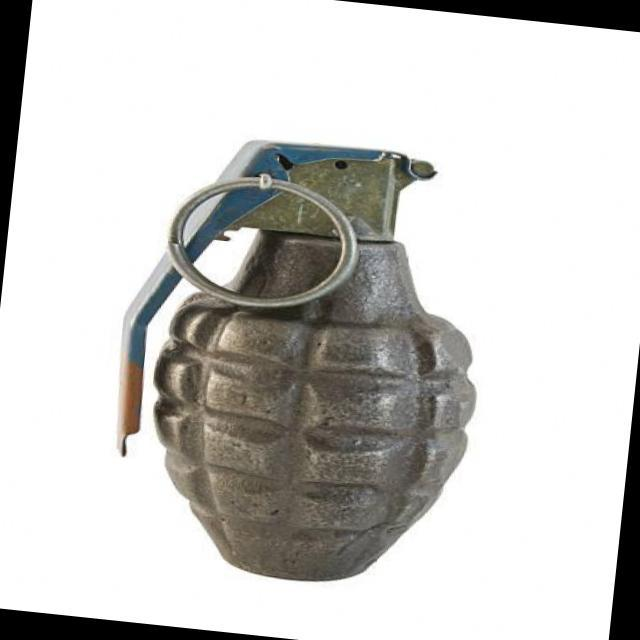grenade: (82, 115, 506, 608)
